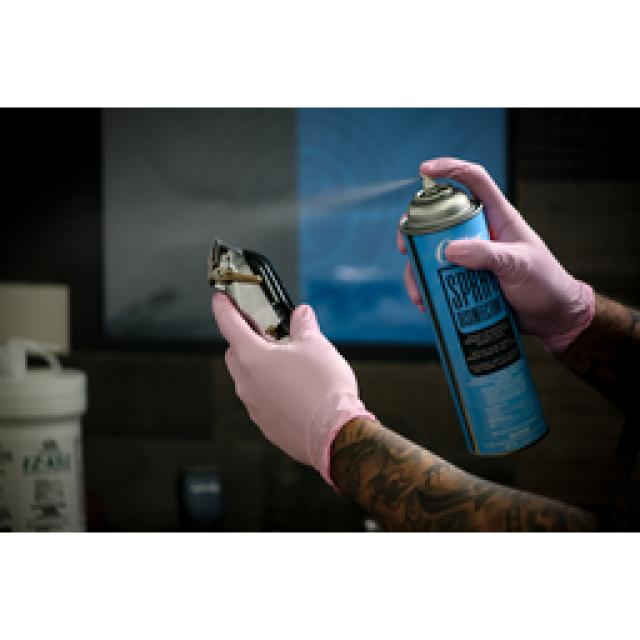B3: (384, 177, 550, 456)
